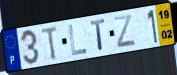1: (147, 9, 159, 45)
3: (19, 28, 41, 66)
L: (67, 23, 88, 57)
T: (40, 25, 59, 62), (90, 18, 108, 53)
Z: (112, 13, 138, 49)
